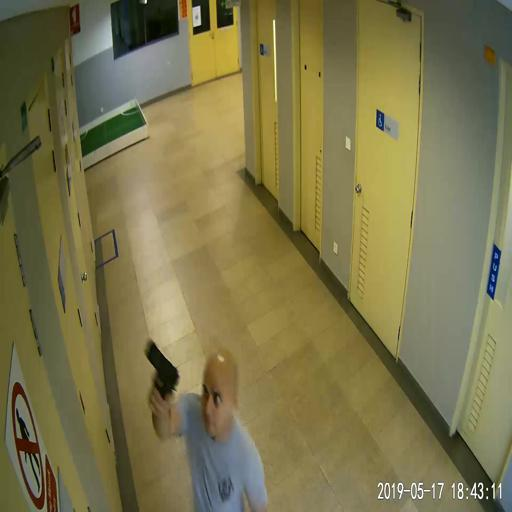pistol: (145, 339, 178, 405)
